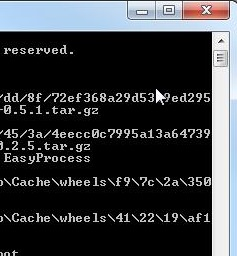cursor: (155, 87, 167, 107)
